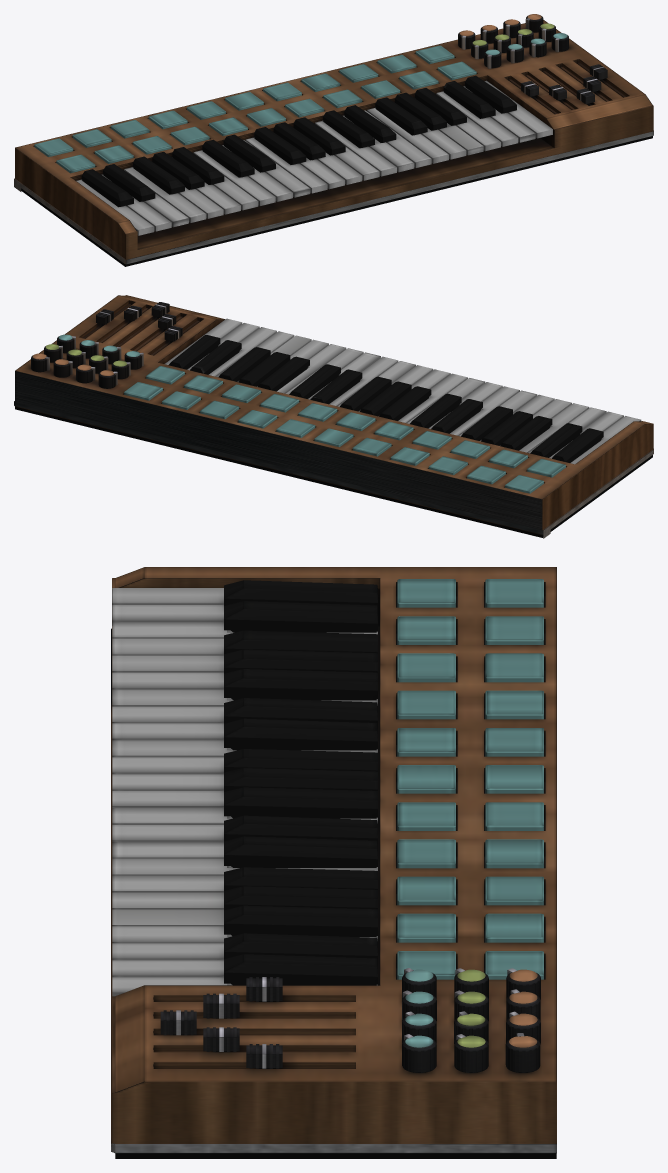
The model's file is midi_controller.glb.
3 renders of one model, top to bottom at view 1: azimuth 30°, elevation 25°; view 2: azimuth 150°, elevation 25°; view 3: azimuth 270°, elevation 25°, orthographic. The views are drawn at different scales.
Parts seen in each view (by area): view 1: midi_controller; view 2: midi_controller; view 3: midi_controller.
Part boxes in pixels (x1=…): midi_controller: x1=14, y1=14, x2=653, y2=266; midi_controller: x1=14, y1=295, x2=653, y2=538; midi_controller: x1=111, y1=567, x2=556, y2=1158.
Size of the model in its own units: 0.78 by 0.0722 by 0.2847.
8 materials, 8 textured.
